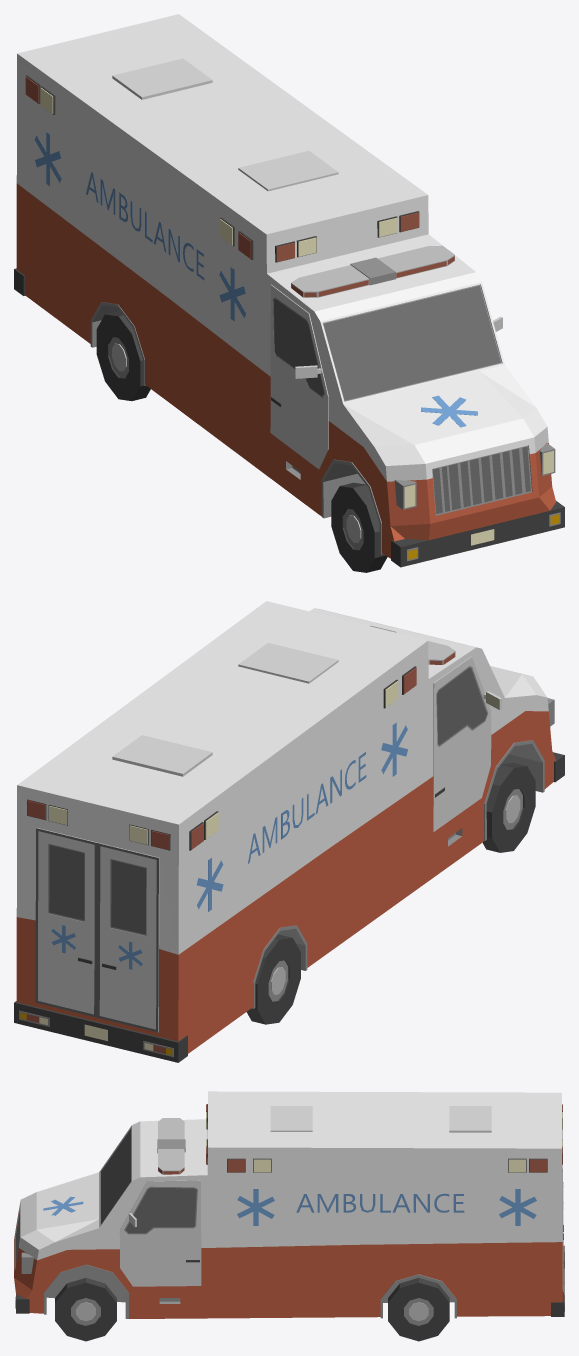
The model's file is Ambulance.fbx.
3 views of the same model, one above another, from view 1: azimuth 30°, elevation 25°; view 2: azimuth 150°, elevation 25°; view 3: azimuth 270°, elevation 25° (orthographic). The views are drawn at different scales.
Parts seen in each view (by area): view 1: ty, Cylinder_2_3, Cylinder_2_1; view 2: ty, Cylinder_2_3, Cylinder_2_1; view 3: ty, Cylinder_2_2, Cylinder_2.
Boxes of the visible parts, <box> form: ty: <box>14,14,564,567</box>; Cylinder_2_3: <box>331,482,387,572</box>; Cylinder_2_1: <box>96,311,150,401</box>; ty: <box>14,601,564,1062</box>; Cylinder_2_3: <box>482,762,535,852</box>; Cylinder_2_1: <box>246,934,300,1024</box>; ty: <box>14,1091,564,1318</box>; Cylinder_2_2: <box>55,1278,116,1341</box>; Cylinder_2: <box>388,1278,449,1341</box>.
Bounding box in the file's own units: 169 × 215 × 549.
